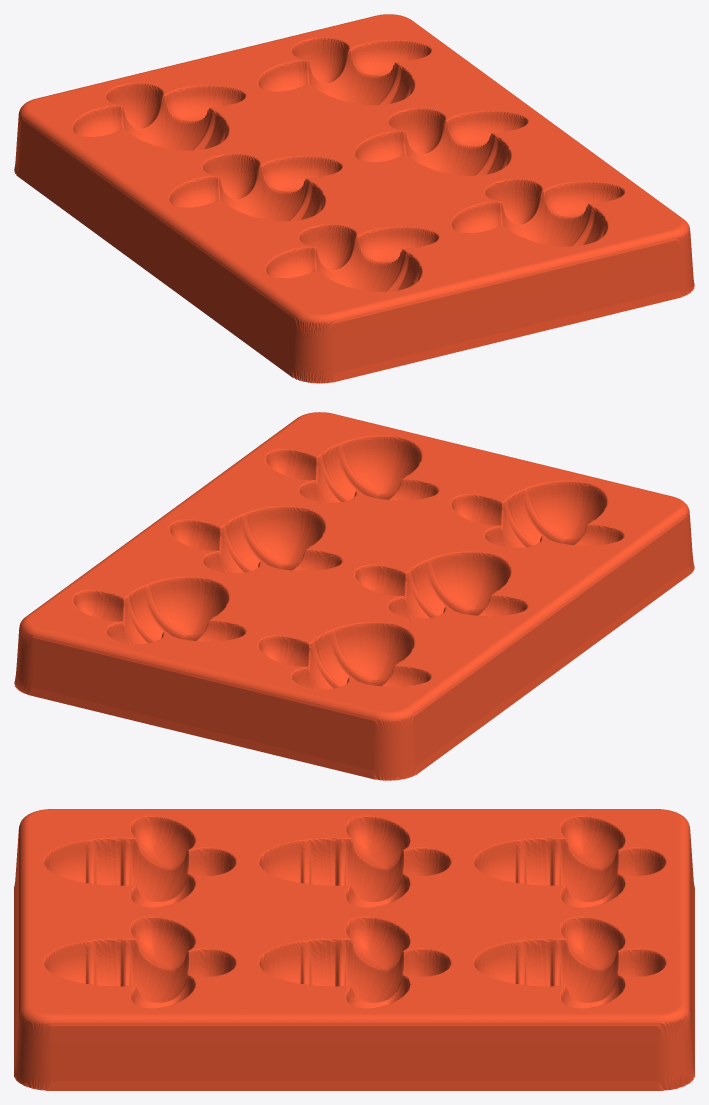
Rendered from mold.glb.
The picture shows the model from 3 angles, top to bottom: view 1: azimuth 30°, elevation 25°; view 2: azimuth 150°, elevation 25°; view 3: azimuth 270°, elevation 25°; orthographic projection. The views are drawn at different scales.
Parts seen in each view (by area): view 1: geometry_0; view 2: geometry_0; view 3: geometry_0.
Boxes of the visible parts, x1,y1,x2,y2 form: geometry_0: (14,14,694,383); geometry_0: (14,412,694,780); geometry_0: (14,809,694,1090).
Size of the model in its own units: 0.1222 by 0.0185 by 0.1621.
